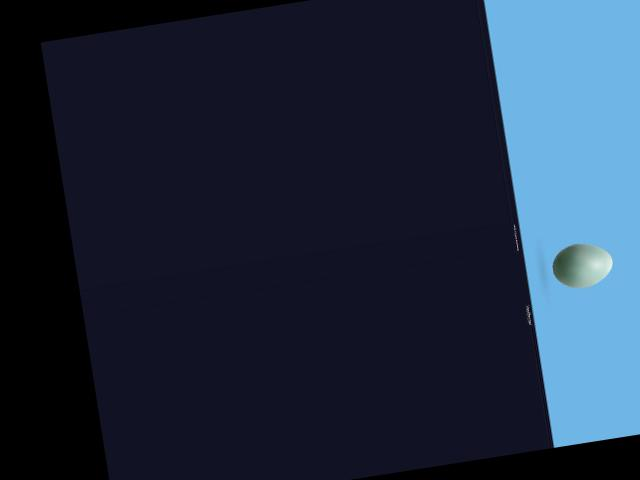egg: (549, 238, 616, 291)
